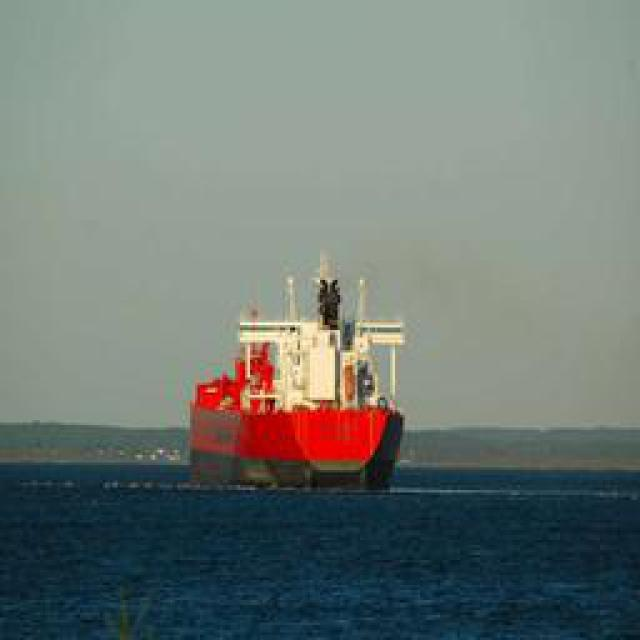Ship: (187, 246, 407, 486)
